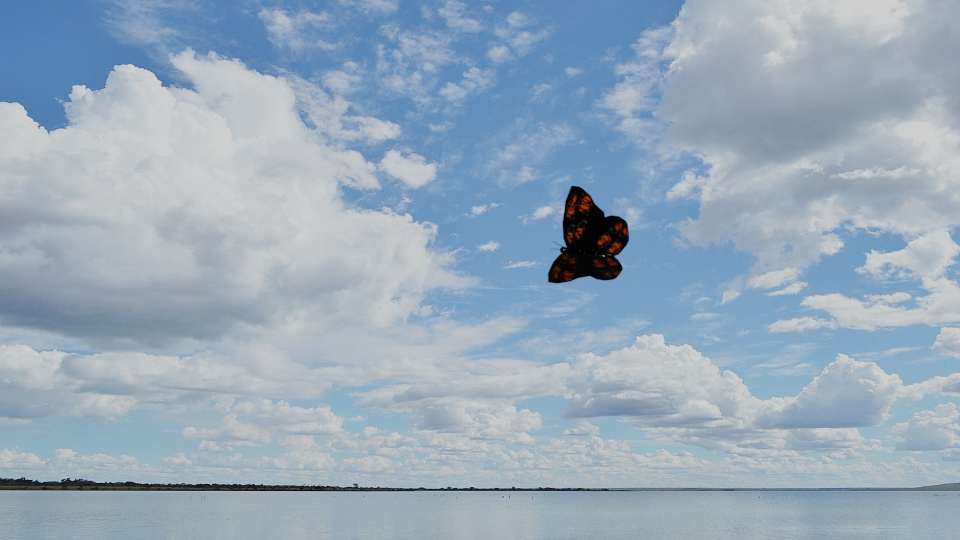insect: (546, 186, 629, 283)
